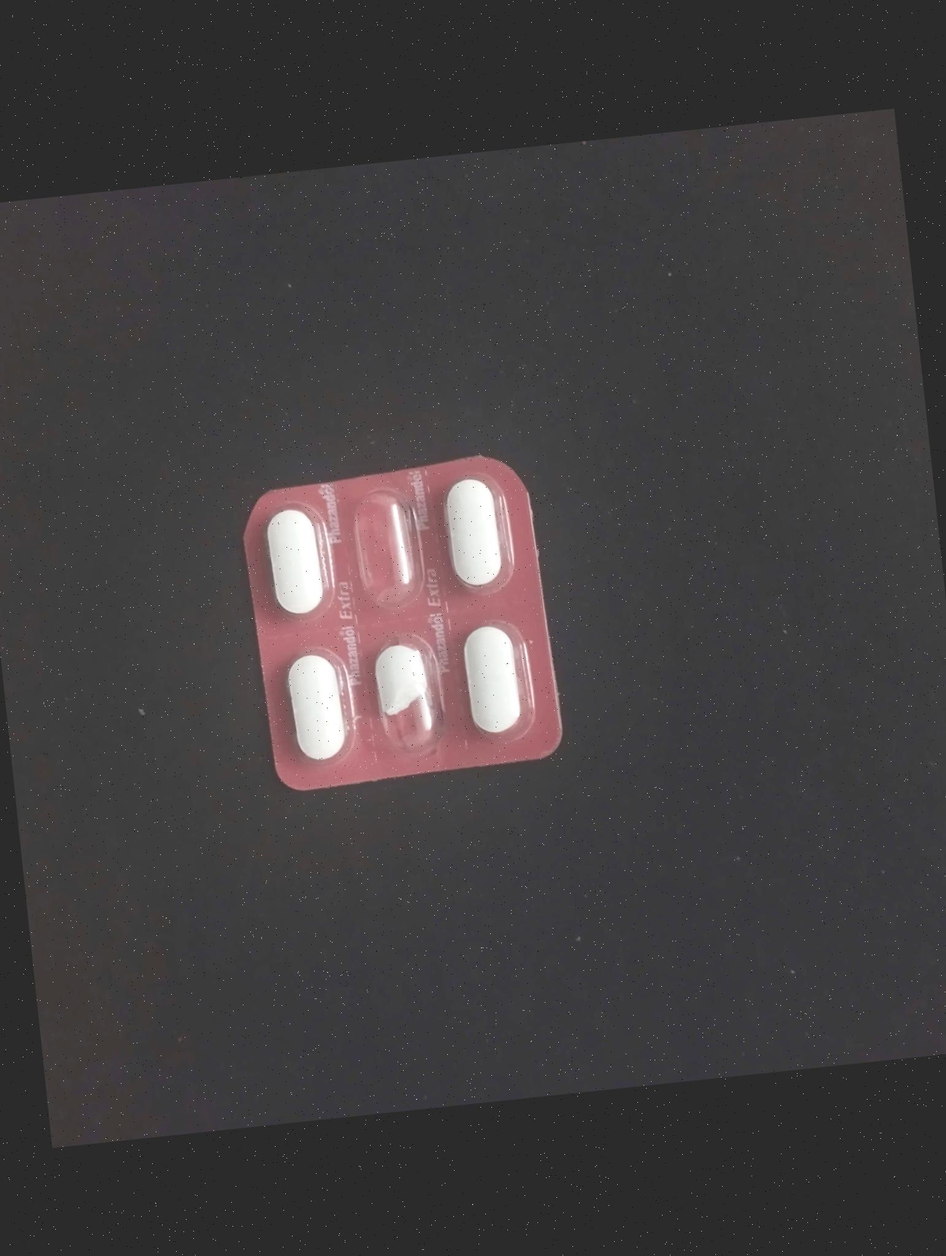Empty: (340, 484, 429, 618)
Full: (434, 468, 514, 605), (271, 648, 355, 776), (259, 499, 334, 629), (452, 622, 528, 742)
Partial: (368, 643, 438, 756)
